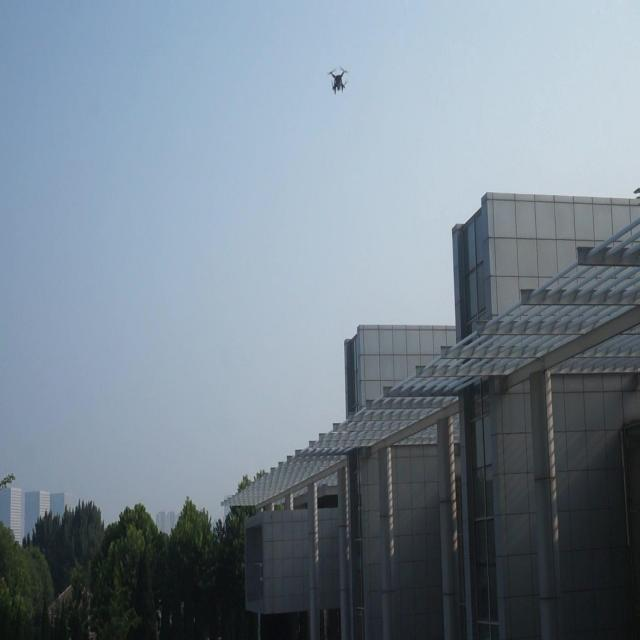UAV: (327, 66, 349, 95)
